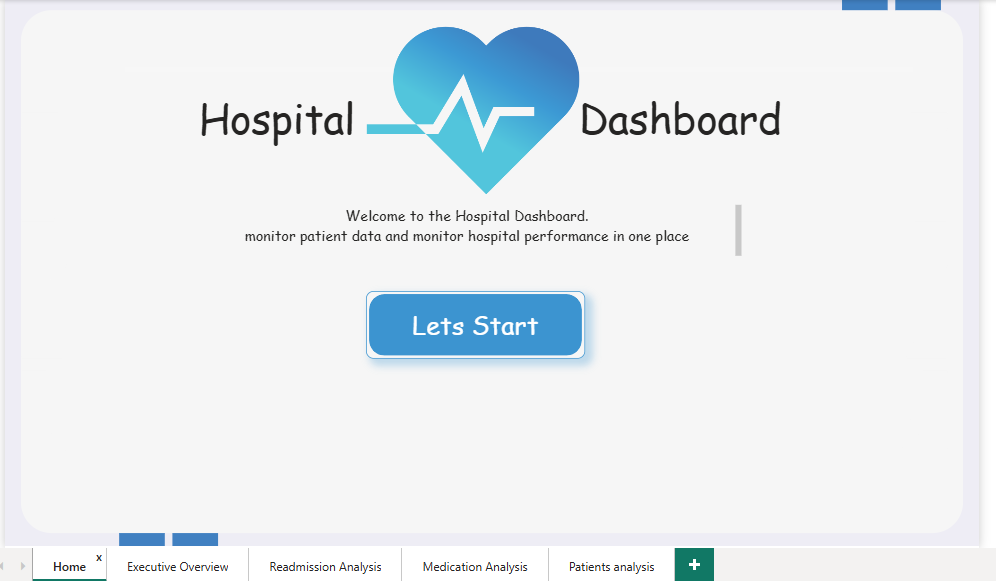

The page's visual inventory and layout, read from the dashboard file:
{"tool":"powerbi","page":{"name":"Home","canvas":[1280,720],"ordinal":0},"visuals":[{"type":"image","box":[455.8,26.4,318.2,237.6],"z":0},{"type":"textbox","box":[749,111.2,287.6,102.8],"z":1000},{"type":"textbox","box":[250.1,111.2,223.7,104.2],"z":2000},{"type":"shape","box":[473.8,382.1,287.6,88.9],"z":3000},{"type":"textbox","box":[250.1,264,722.6,77.8],"z":4000}]}

Visuals, with their boxes on the page's 1280x720 design canvas (x1, y1, x2, y2). These are canvas units, not pixel positions in the 996x581 screenshot, which may show the page scaled, cropped or inside an application window:
image: crop(456, 26, 774, 264)
textbox: crop(749, 111, 1037, 214)
textbox: crop(250, 111, 474, 215)
shape: crop(474, 382, 761, 471)
textbox: crop(250, 264, 973, 342)
